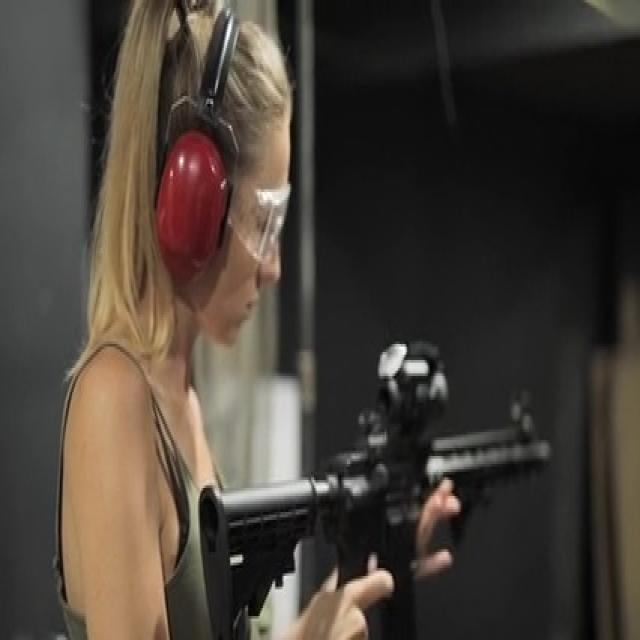Gun_Holder: (172, 314, 586, 636)
Person: (59, 0, 392, 640)
